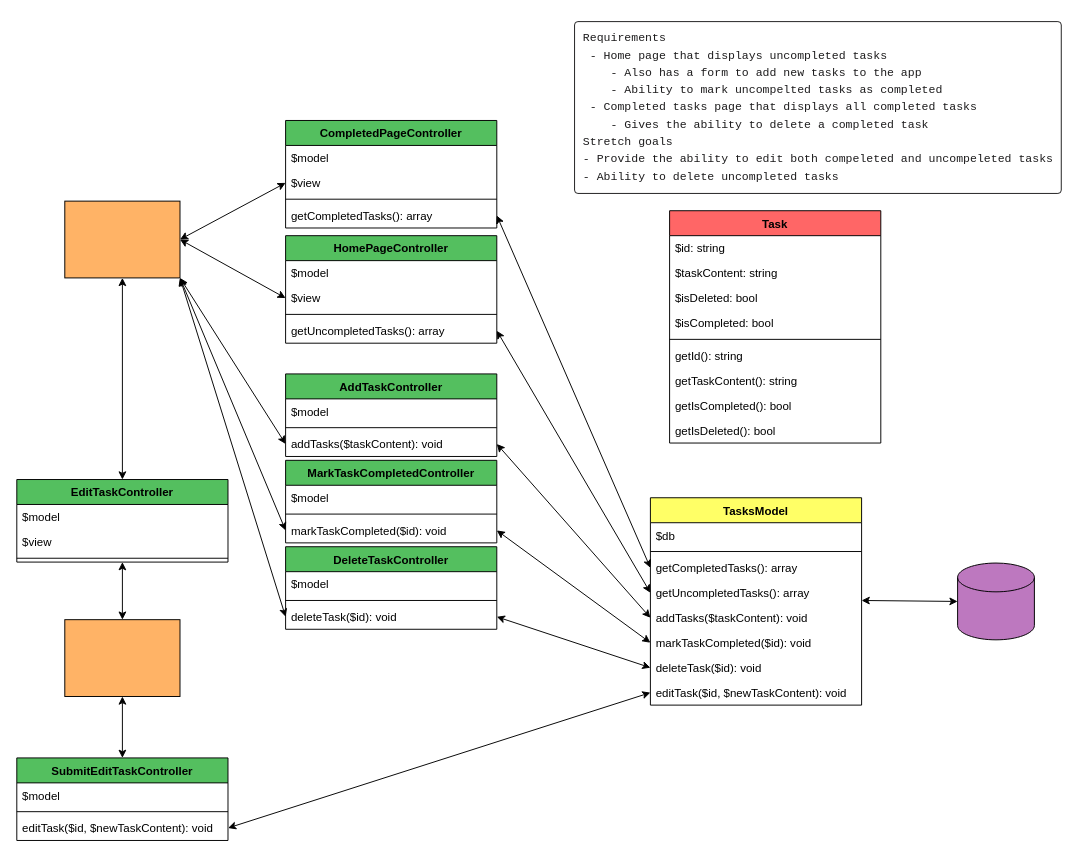
Image size: 1080x859. Some labels were removed from this diagram. The centre of each missing label's shape, as x and y in pixels:
DB: point 995,601
editTask.php: point 122,657
index.php: point 122,239
